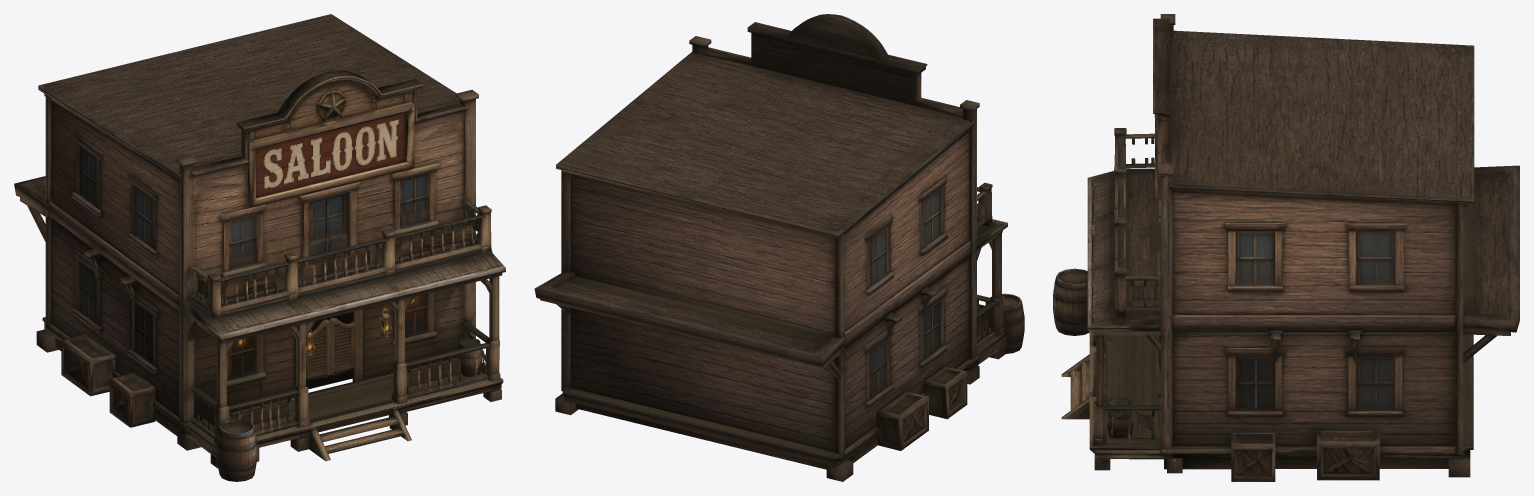
File: saloon.glb
3 renders of one model, left to right at view 1: azimuth 30°, elevation 25°; view 2: azimuth 150°, elevation 25°; view 3: azimuth 270°, elevation 25°, orthographic. The views are drawn at different scales.
Visible parts, largest first — view 1: tripo_node_ebb8675c-371e-4608-898e-4113add2c685; view 2: tripo_node_ebb8675c-371e-4608-898e-4113add2c685; view 3: tripo_node_ebb8675c-371e-4608-898e-4113add2c685.
Boxes of the visible parts, x1,y1,x2,y2 form: tripo_node_ebb8675c-371e-4608-898e-4113add2c685: (14,14,505,481); tripo_node_ebb8675c-371e-4608-898e-4113add2c685: (534,14,1024,481); tripo_node_ebb8675c-371e-4608-898e-4113add2c685: (1053,14,1519,481).
Size of the model in its own units: 0.8833 by 0.8647 by 0.9995.
Materials: 1 (1 with a texture image).
